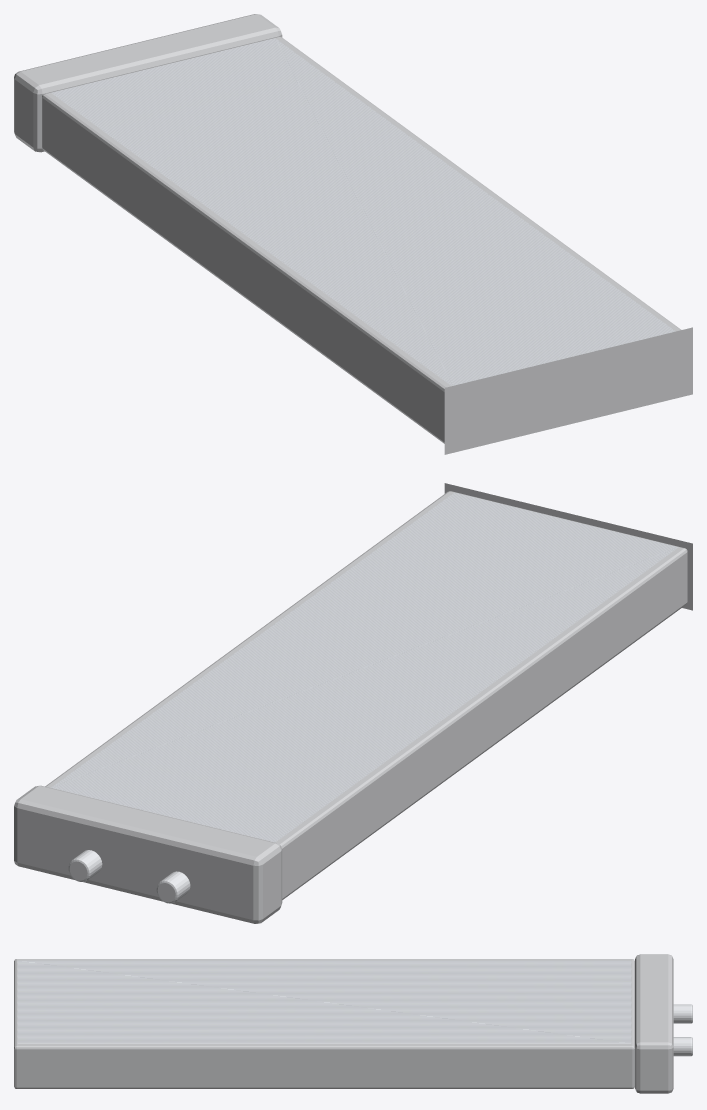
File: rad-bitlab-360_lod1.glb
3 views of the same model, one above another, from view 1: azimuth 30°, elevation 25°; view 2: azimuth 150°, elevation 25°; view 3: azimuth 270°, elevation 25° (orthographic). The views are drawn at different scales.
Visible parts, largest first — view 1: radiator_RadFins, radiator_RadTank; view 2: radiator_RadFins, radiator_RadTank, radiator_Fitting; view 3: radiator_RadFins, radiator_RadTank, radiator_Fitting.
Boxes of the visible parts, box(x1,y1,x2,y2) form: radiator_RadFins: box(51, 38, 675, 385); radiator_RadTank: box(14, 14, 692, 454); radiator_RadFins: box(51, 492, 678, 842); radiator_RadTank: box(14, 483, 692, 923); radiator_Fitting: box(68, 850, 190, 903); radiator_RadFins: box(17, 960, 631, 1043); radiator_RadTank: box(14, 954, 673, 1093); radiator_Fitting: box(673, 1004, 692, 1056).
Size of the model in its own units: 0.124 by 0.032 by 0.386.
3 materials, 1 textured.
